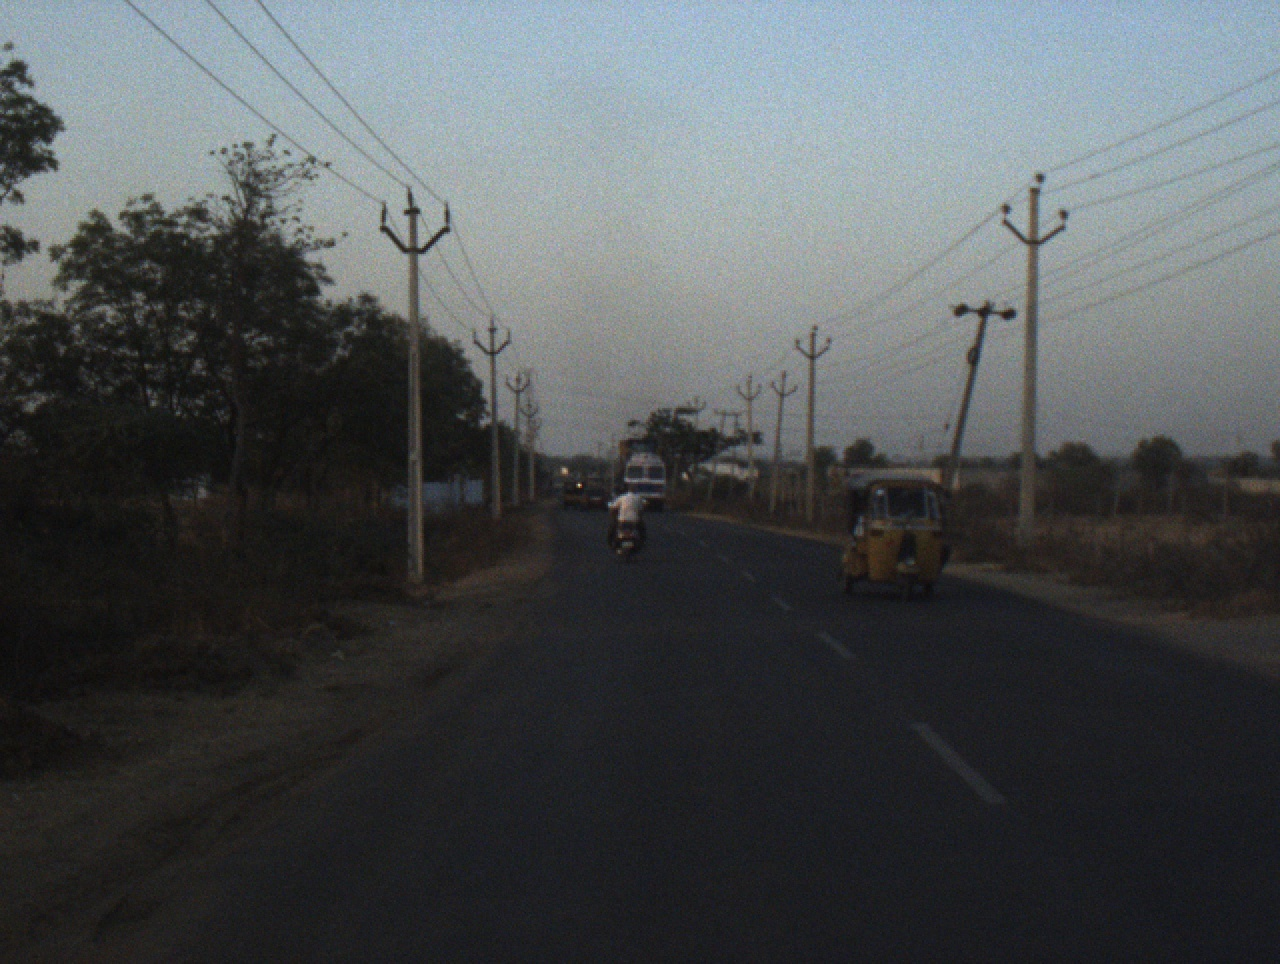autorickshaw: (836, 474, 954, 609), (559, 479, 588, 510)
car: (581, 487, 609, 512)
motorcycle: (605, 498, 650, 564)
rider: (606, 479, 649, 549)
truck: (612, 434, 669, 514)
